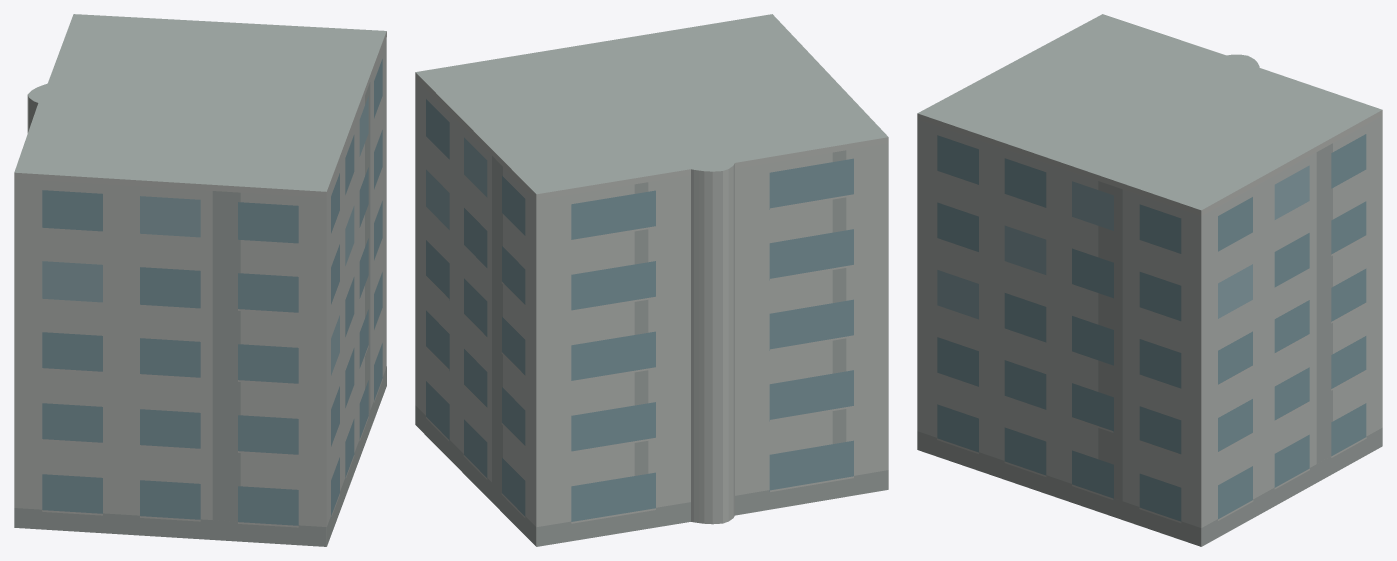
Rendered from survey-upis-32889321.glb.
The picture shows the model from 3 angles, left to right: view 1: azimuth 30°, elevation 25°; view 2: azimuth 150°, elevation 25°; view 3: azimuth 270°, elevation 25°; orthographic projection. The views are drawn at different scales.
Parts seen in each view (by area): view 1: survey-upis-32889321.tmp; view 2: survey-upis-32889321.tmp; view 3: survey-upis-32889321.tmp.
Boxes of the visible parts, x1,y1,x2,y2 form: survey-upis-32889321.tmp: [14, 14, 386, 546]; survey-upis-32889321.tmp: [415, 14, 888, 546]; survey-upis-32889321.tmp: [917, 14, 1382, 546].
Bounding box in the file's own units: 17.78 × 14.2 × 17.8.
